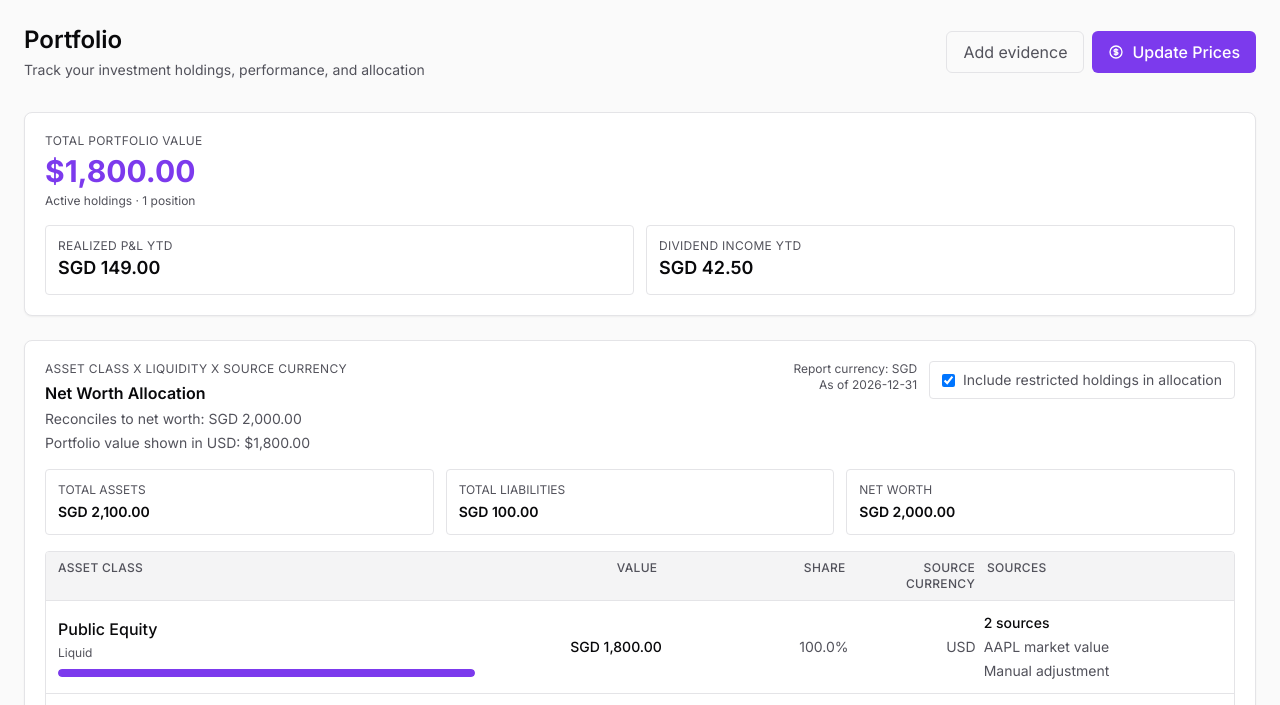
Test: PortfolioPage › #2645 labels the liquid net worth and names each excluded class when restricted holdings are excluded
This screenshot has width=1280, height=705.
expect the text "Net worth" is shown: met, box [859,482,932,497]
Click the checkbox labelled "Include restricted holdings in allocation". click: (949, 380)
box: [942,374,955,386]
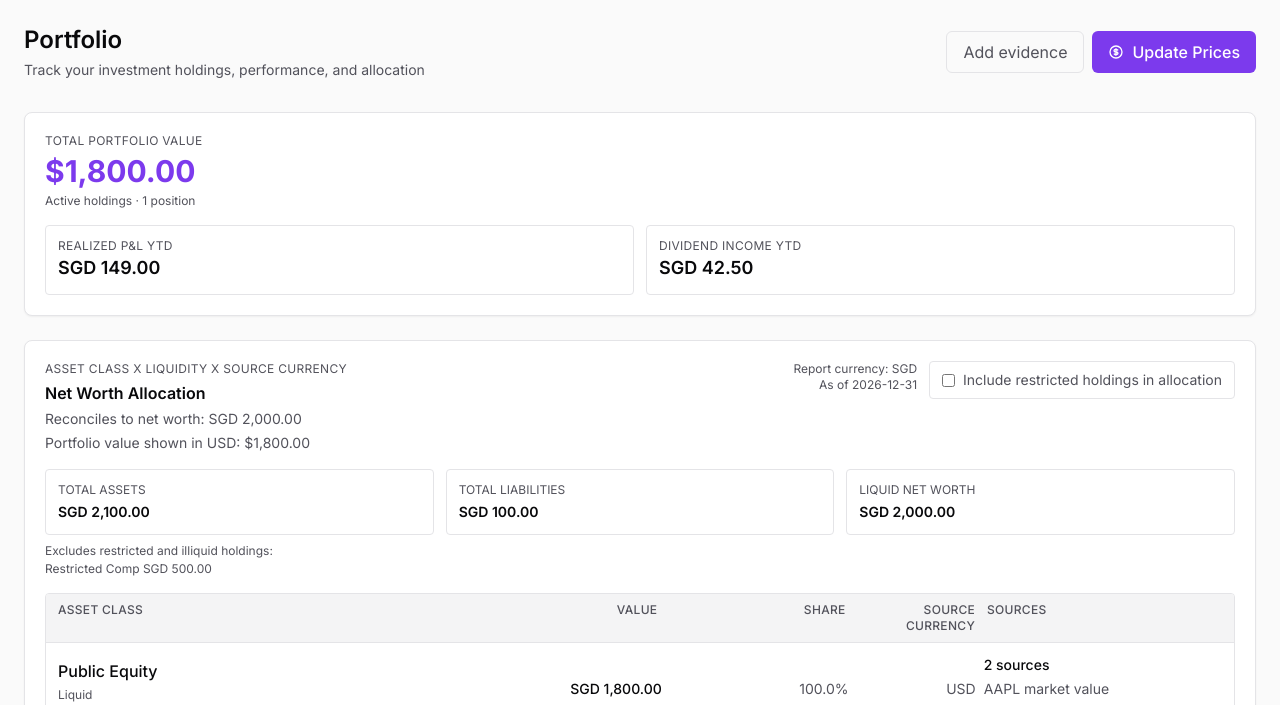
expect the text "Liquid net worth" is shown: met, box [859,482,975,497]
expect the element with test id "excluded-holdings-note" reads "Excludes restricted and illiquid holdings: Restricted Comp SGD 500.00": met, box [45,543,273,576]
